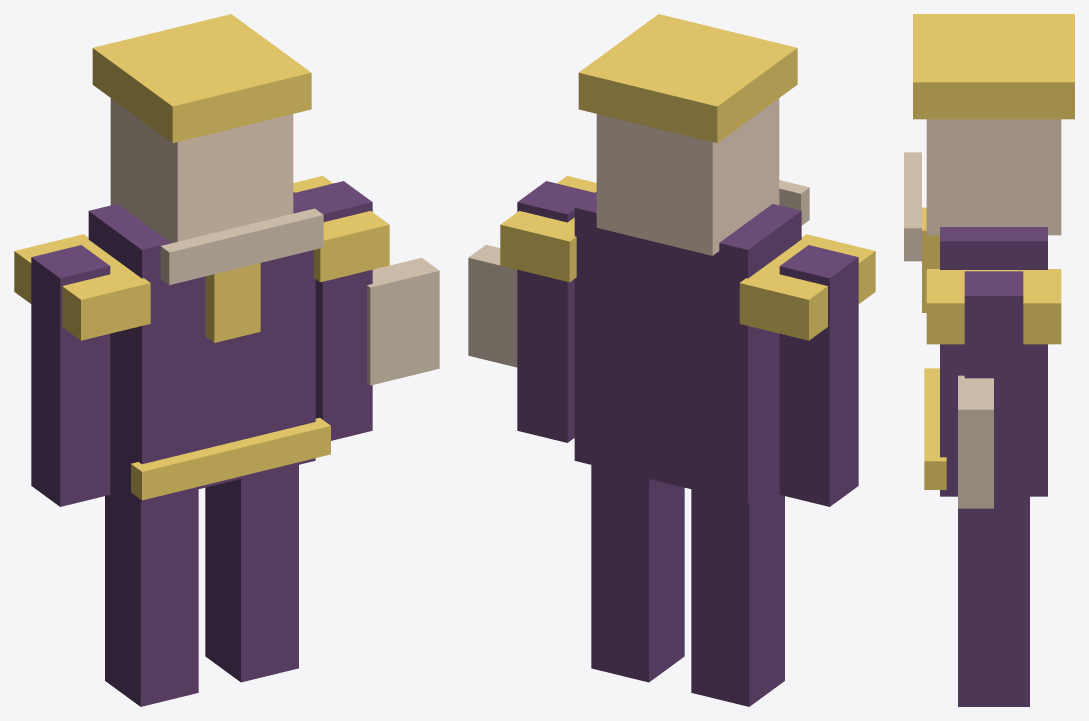
File: 10_brant_mossguard_navigator_of_skybridge.glb
3 views of the same model, side by side, from view 1: azimuth 30°, elevation 25°; view 2: azimuth 150°, elevation 25°; view 3: azimuth 270°, elevation 25° (orthographic).
Parts seen in each view (by area): view 1: Brant Mossguard, Navigator of Skybridge; view 2: Brant Mossguard, Navigator of Skybridge; view 3: Brant Mossguard, Navigator of Skybridge.
Boxes of the visible parts, left/top/right/bottom form: Brant Mossguard, Navigator of Skybridge: left=14, top=14, right=439, bottom=706; Brant Mossguard, Navigator of Skybridge: left=468, top=14, right=875, bottom=706; Brant Mossguard, Navigator of Skybridge: left=904, top=14, right=1074, bottom=706.
Size of the model in its own units: 0.9494 by 1.48 by 0.37.
